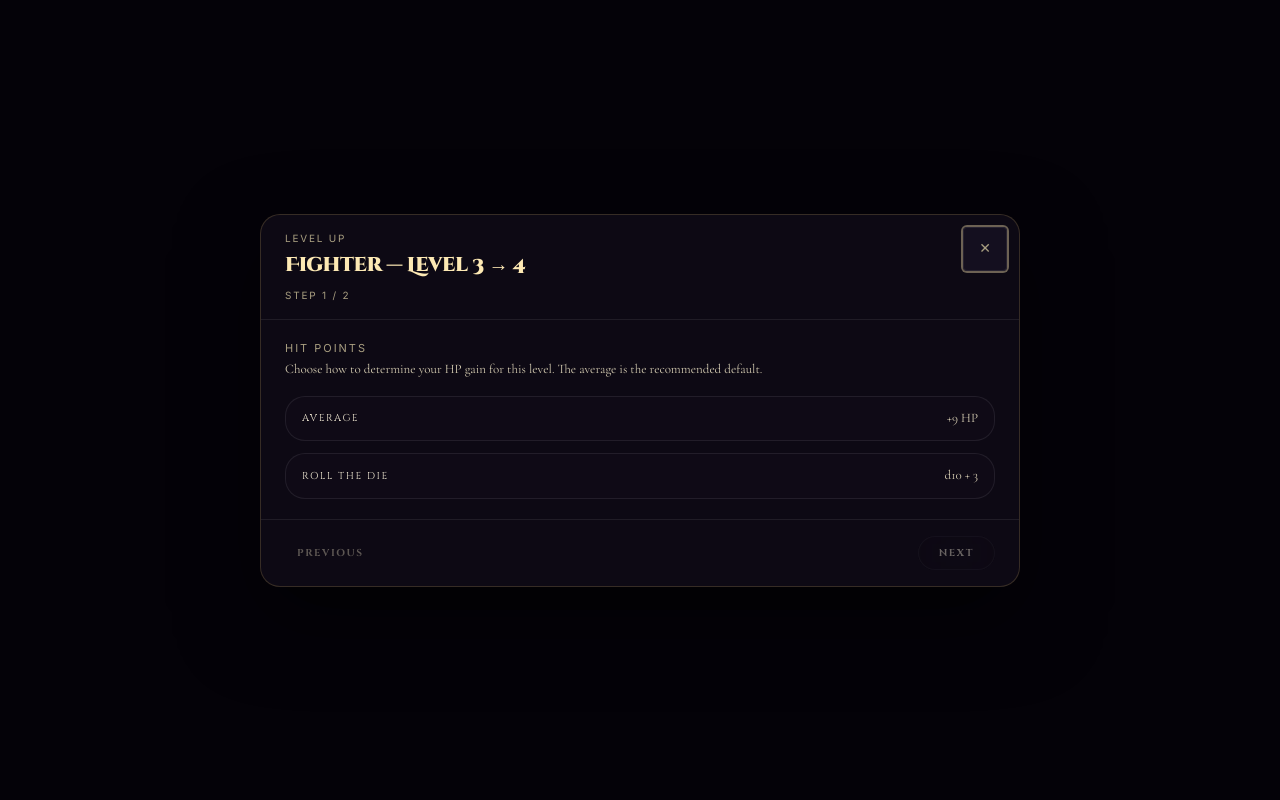
it: LevelUpModal — passe i18n (rouge avant vert) › mode montée de niveau : rend l’EN, aucune fuite FR
Expected: the text "Level up" is shown, [285, 232, 346, 244]
Expected: the heading "Fighter — Level 3 → 4" is shown, [285, 250, 525, 278]
Navigation → étape Amélioration/Don en anglais.
What coordinates should you click on to do the following:
click the button "Average +9 HP"
I would click on:
 (331, 418)
Its box is [285, 396, 995, 441].
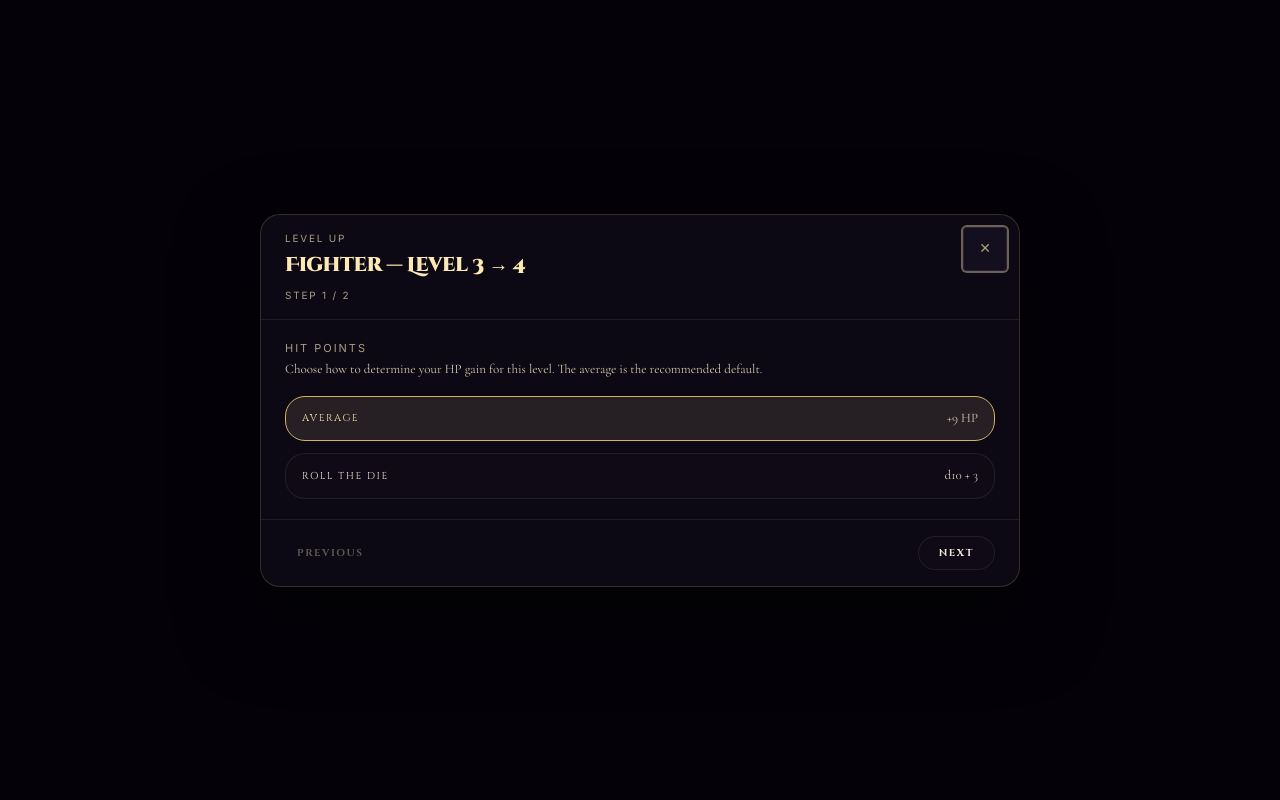
What coordinates should you click on to do the following:
click the button "Next"
I would click on:
 (956, 552)
Its box is [918, 536, 995, 570].
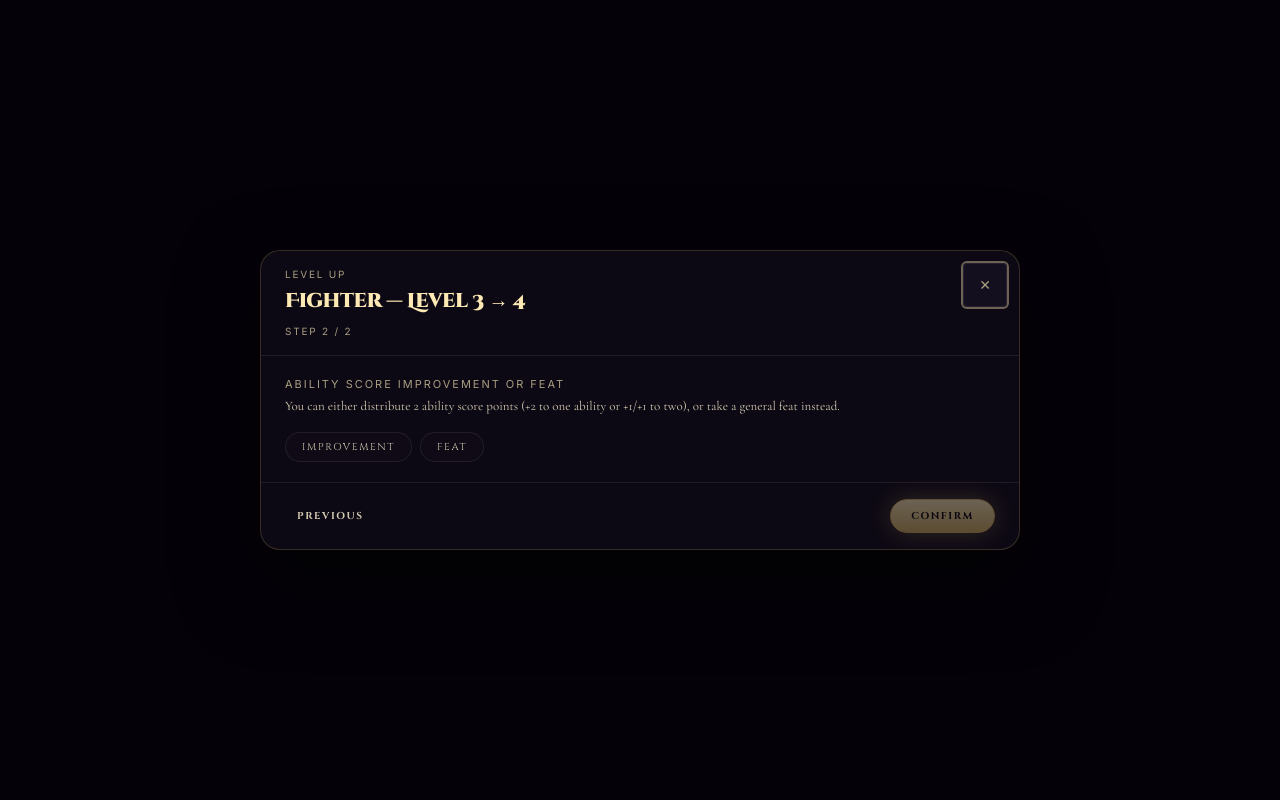
Result: the heading "Ability score improvement or feat" is shown at [285, 377, 565, 391]
Result: the radio button labelled "Improvement" is shown at [285, 432, 412, 462]
Result: the radio button labelled "Feat" is shown at [420, 432, 484, 462]
